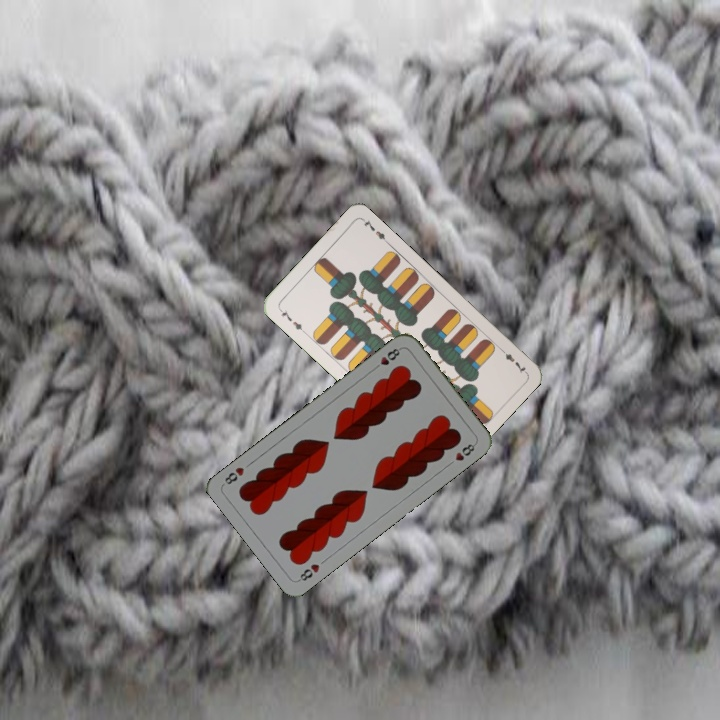E7: (275, 305, 308, 336), (496, 345, 529, 376)
H8: (369, 344, 404, 373), (294, 560, 322, 584)
